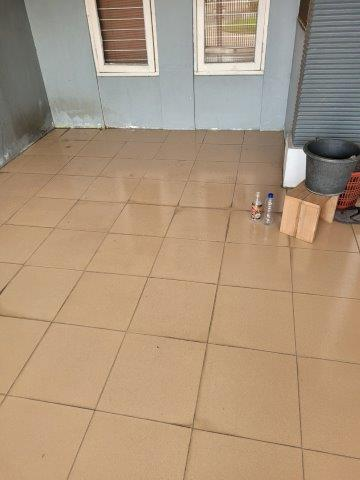botolplastik: (251, 193, 264, 222), (265, 192, 276, 224)
